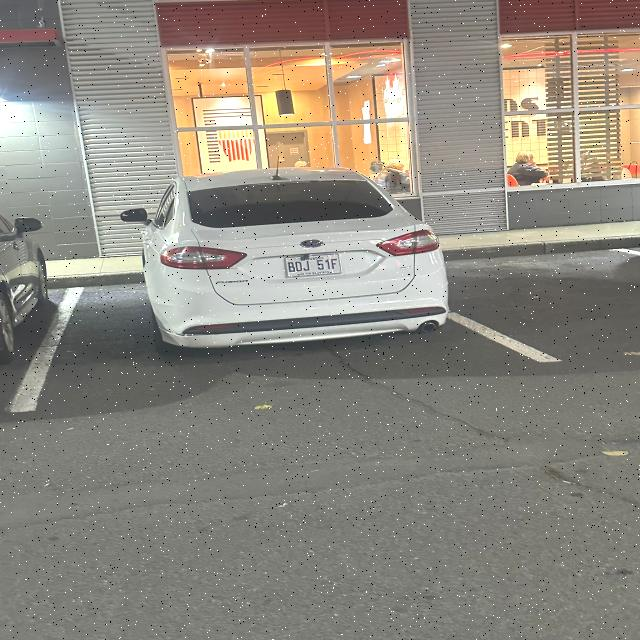plaque: (284, 254, 342, 277)
